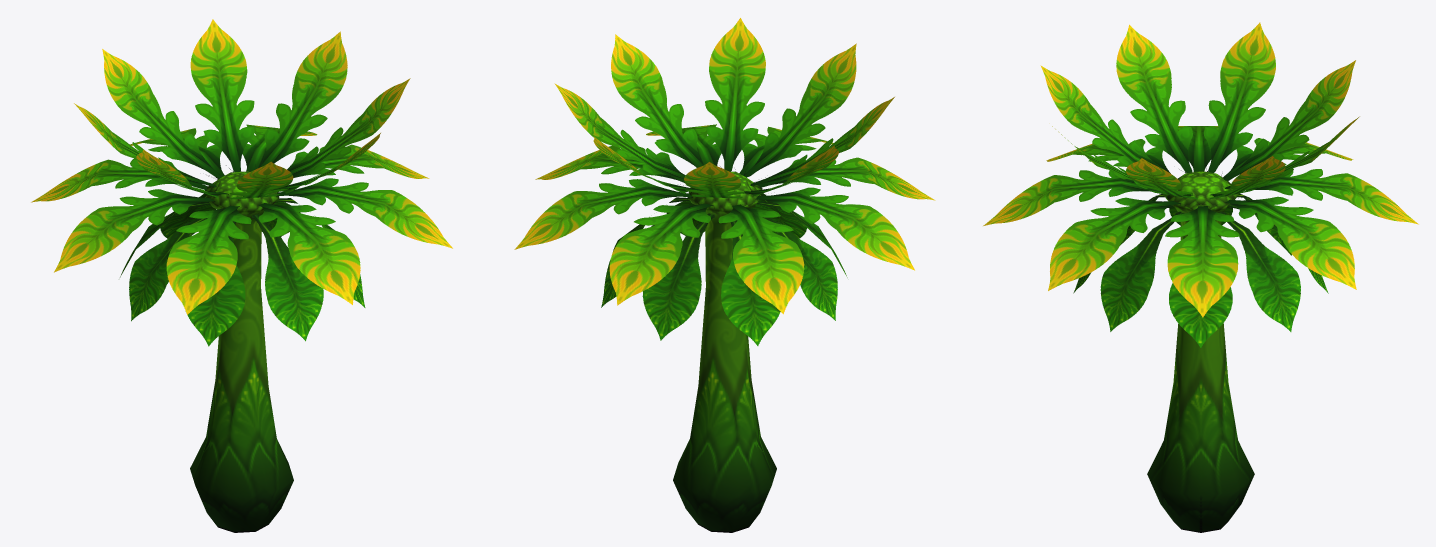
Rendered from Green_Tree_03a.FBX.
The picture shows the model from 3 angles, left to right: view 1: azimuth 30°, elevation 25°; view 2: azimuth 150°, elevation 25°; view 3: azimuth 270°, elevation 25°; orthographic projection.
Parts seen in each view (by area): view 1: Green_Tree_03a; view 2: Green_Tree_03a; view 3: Green_Tree_03a.
Part boxes in pixels (bbox=[...]): Green_Tree_03a: bbox=[31, 19, 452, 532]; Green_Tree_03a: bbox=[514, 18, 935, 532]; Green_Tree_03a: bbox=[983, 22, 1418, 532].
Size of the model in its own units: 195 by 211 by 195.
